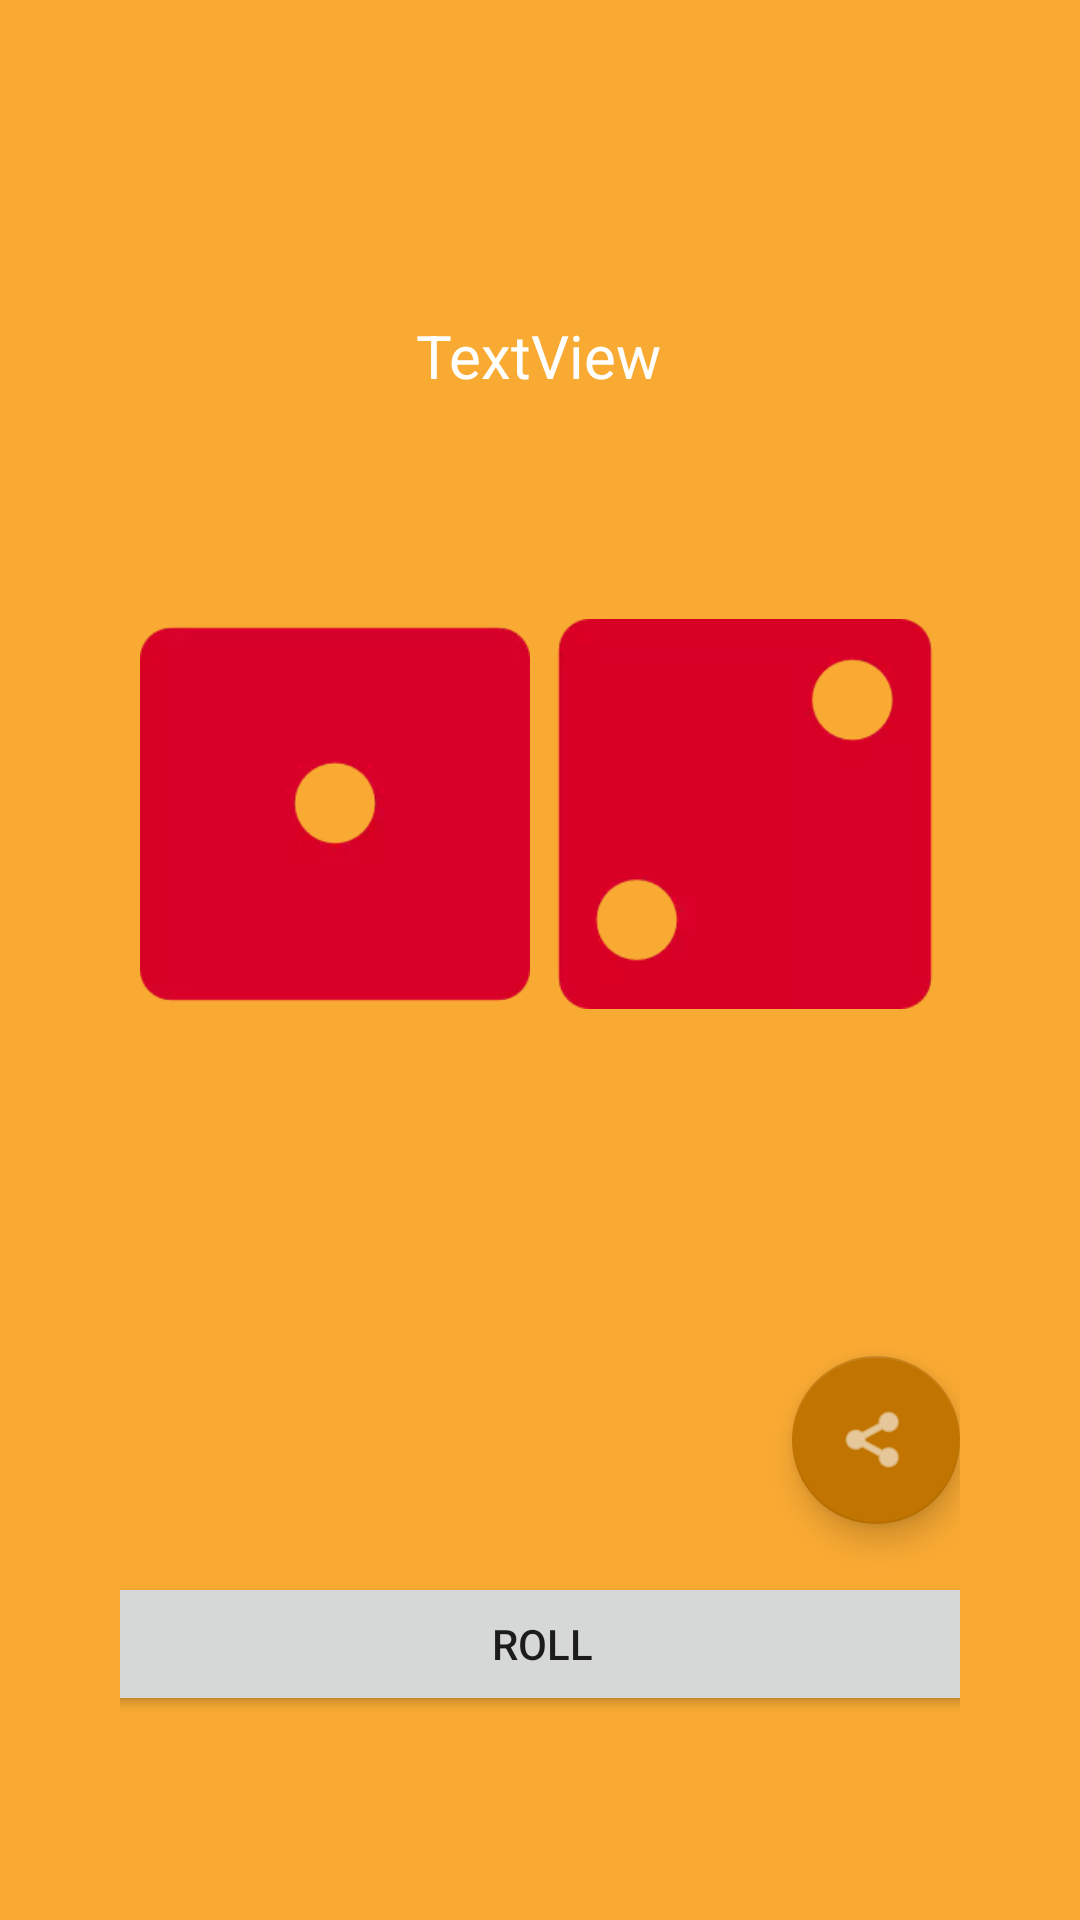

Screen size 1080w x 1920h. Icon name, then its center in pixels as (x,y):
share: (876,1440)
